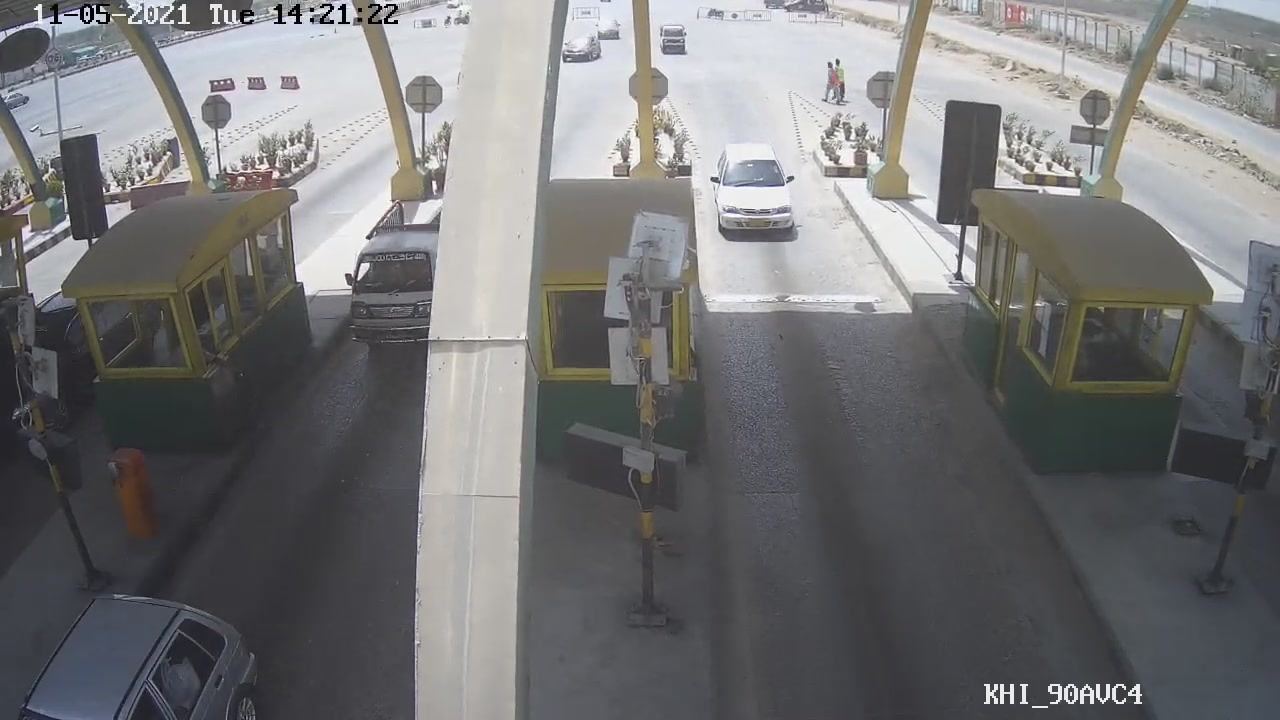F1: (709, 141, 805, 237)
